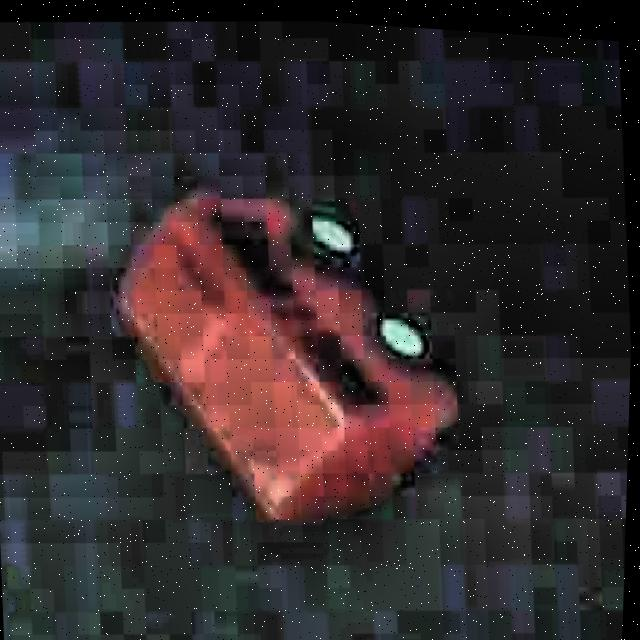bus: (92, 157, 486, 554)
